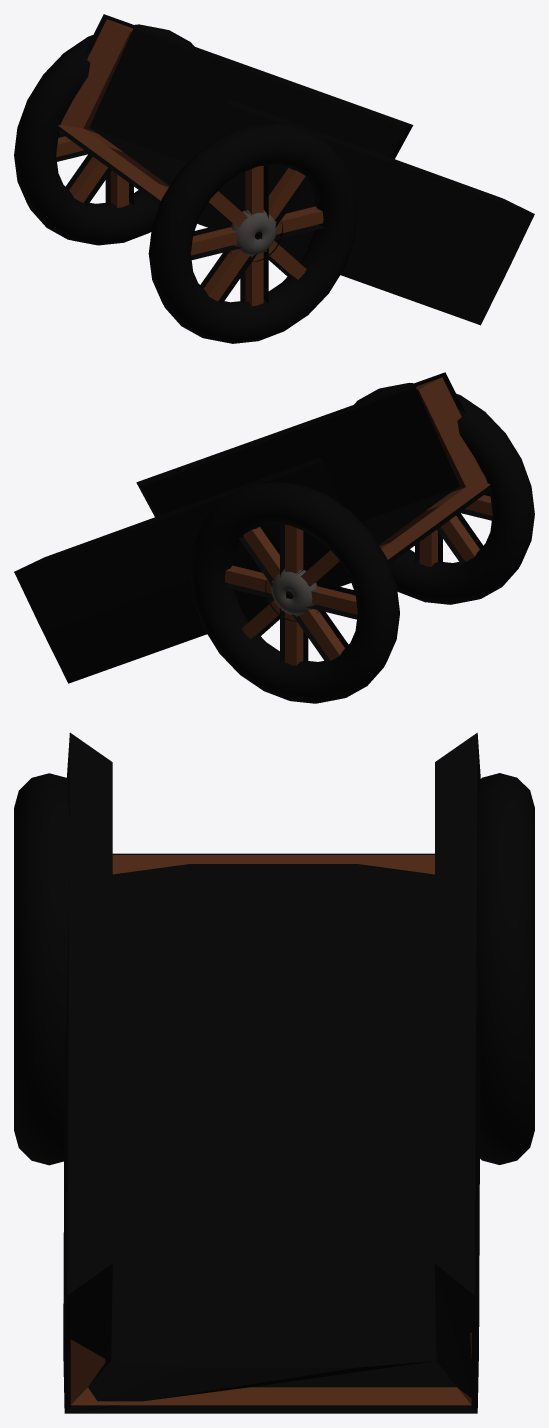
The model's file is ramp.FBX.
3 renders of one model, top to bottom at view 1: azimuth 30°, elevation 25°; view 2: azimuth 150°, elevation 25°; view 3: azimuth 270°, elevation 25°, orthographic. The views are drawn at different scales.
Parts seen in each view (by area): view 1: Box002, Box001; view 2: Box002, Box001; view 3: Box002, Box001.
Boxes of the visible parts, x1=… form: Box002: x1=14, y1=14, x2=534, y2=343; Box001: x1=56, y1=19, x2=323, y2=306; Box002: x1=14, y1=372, x2=534, y2=703; Box001: x1=225, y1=377, x2=492, y2=665; Box002: x1=14, y1=732, x2=534, y2=1413; Box001: x1=70, y1=855, x2=471, y2=1405.
Bounding box in the file's own units: 18.24 × 12.68 × 12.63.
